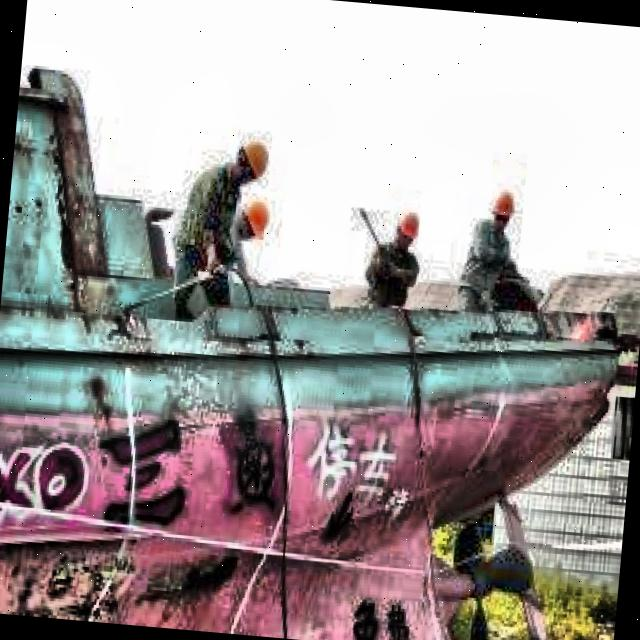helmet: (228, 188, 275, 248), (231, 132, 274, 188), (483, 188, 518, 236), (390, 211, 420, 250)
